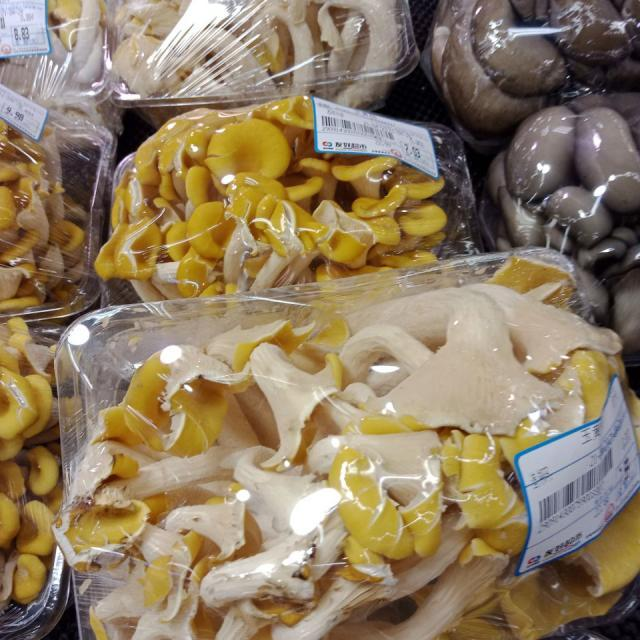Pleurotus citrinopileatus: (63, 263, 636, 640), (95, 102, 449, 289), (0, 320, 59, 607), (0, 120, 82, 310)
